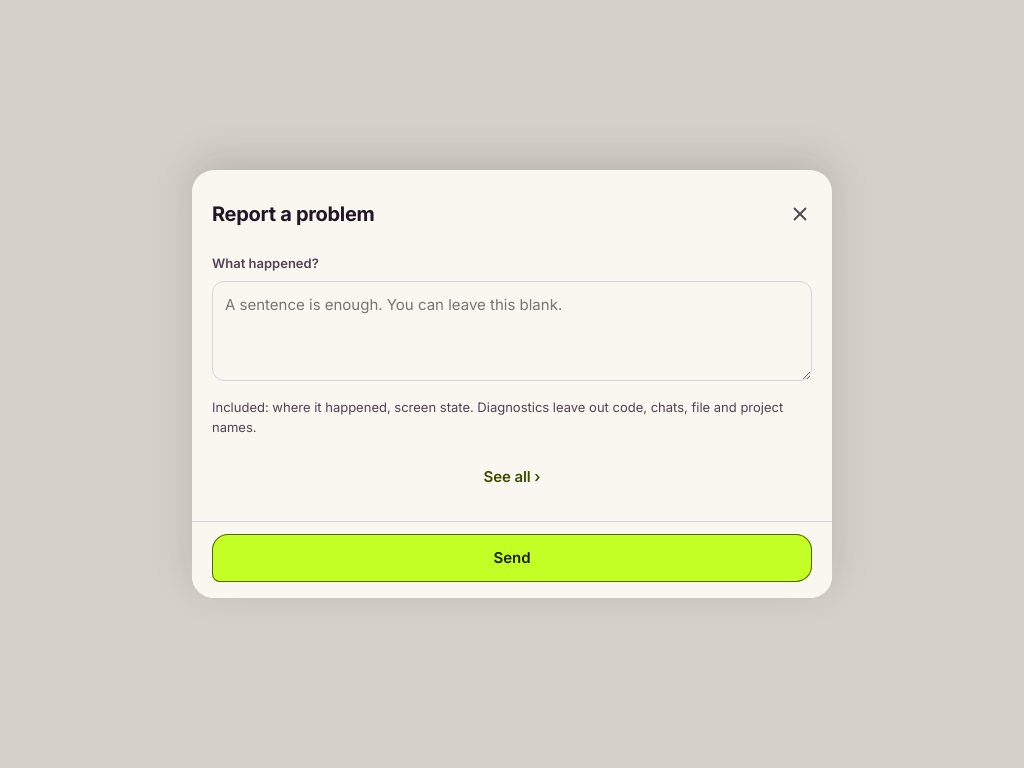
has no empty picture placeholder where capture is unavailable, and saves words before acknowledging
Type "The button did not respond." into the text box labelled "What happened?" at (512, 331), box [212,281,812,381]
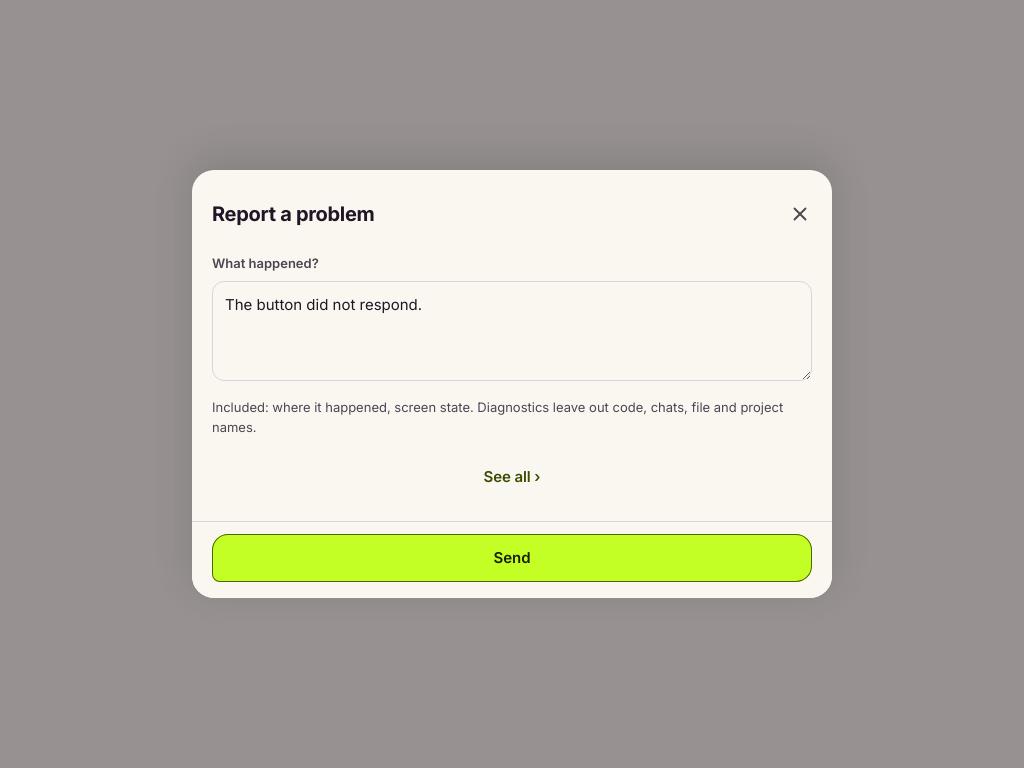
Click the button "Send" at (512, 558), box [212,534,812,582]
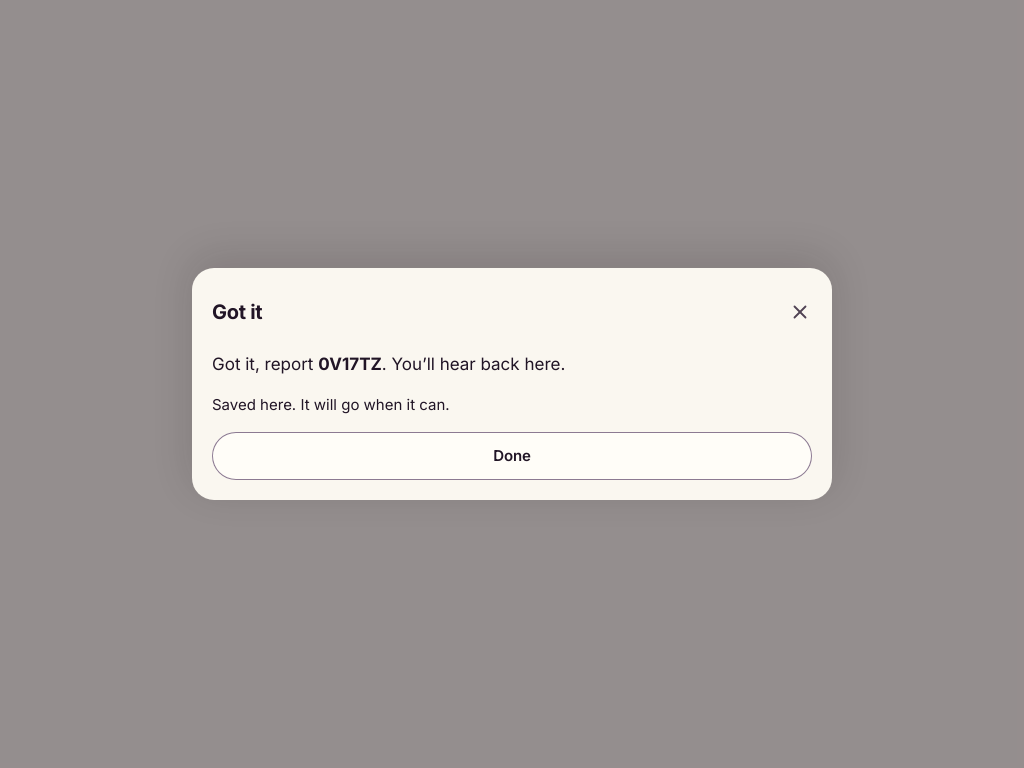
expect the text "Saved here. It will go when it can." is shown: met, box [212,395,450,414]
